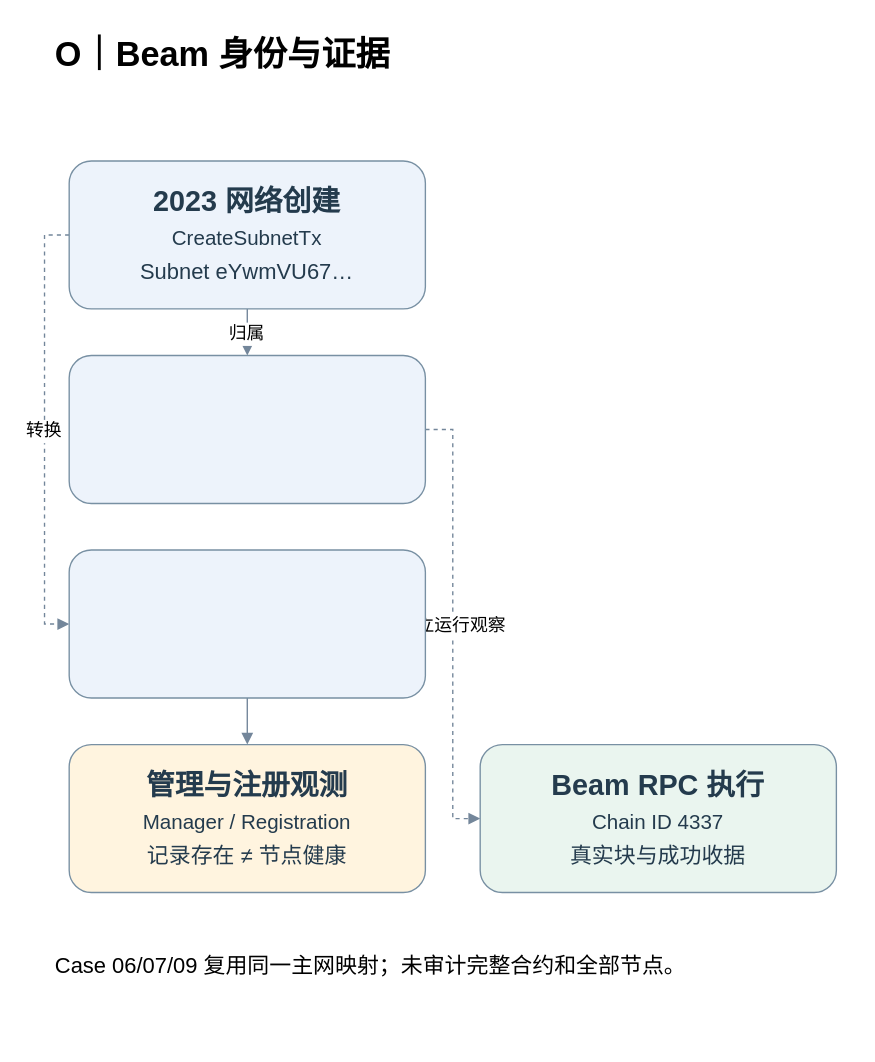
The diagram is 875 pixels wide and 1062 high, and some of its shapes have lost their labels. Here are the shapes that lost their labels. From the top down, the centre of each, then its label:
point 246,428: 2023 链创建 CreateChainTx Blockchain 2tmrrBo1…
point 246,623: 后续现代转换 ConvertSubnetToL1Tx 真实交易另存档
